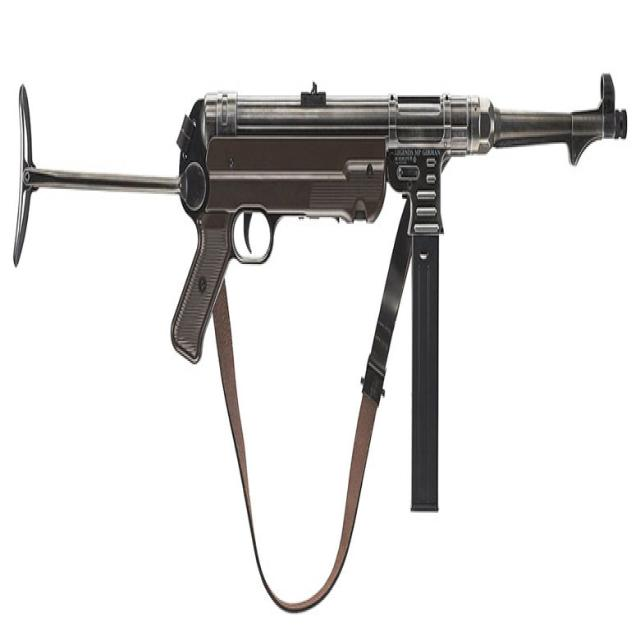SMG: (12, 75, 631, 515)
